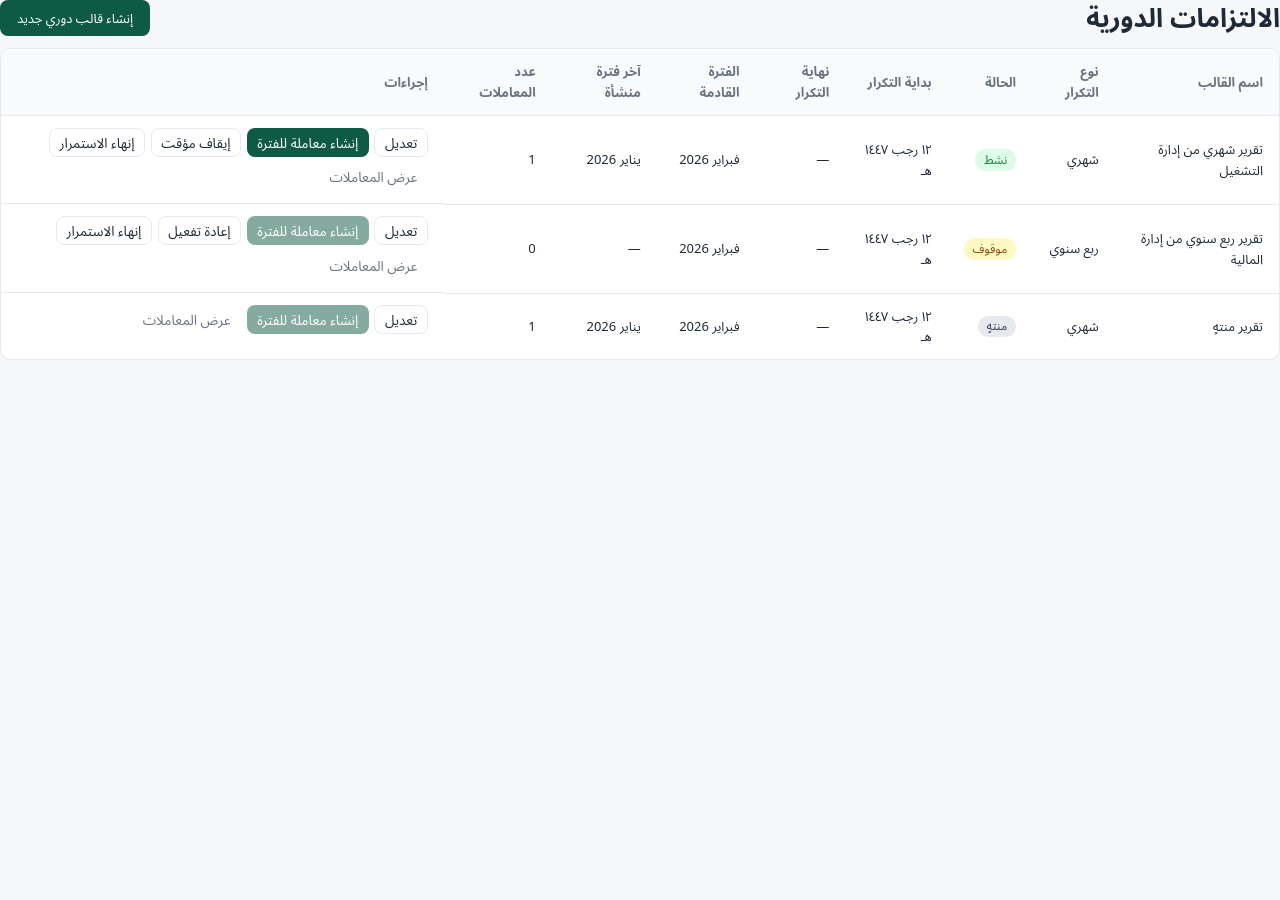
Test case: RecurringTemplatesPage › requires a reason before submitting template termination
The image size is (1280, 900).
Expected: the text "تقرير شهري من إدارة التشغيل" is shown, [1115,115,1279,204]
Click the button "إنهاء الاستمرار" in the row of "تقرير شهري من إدارة التشغيل" at (97, 142), box [49,128,145,157]
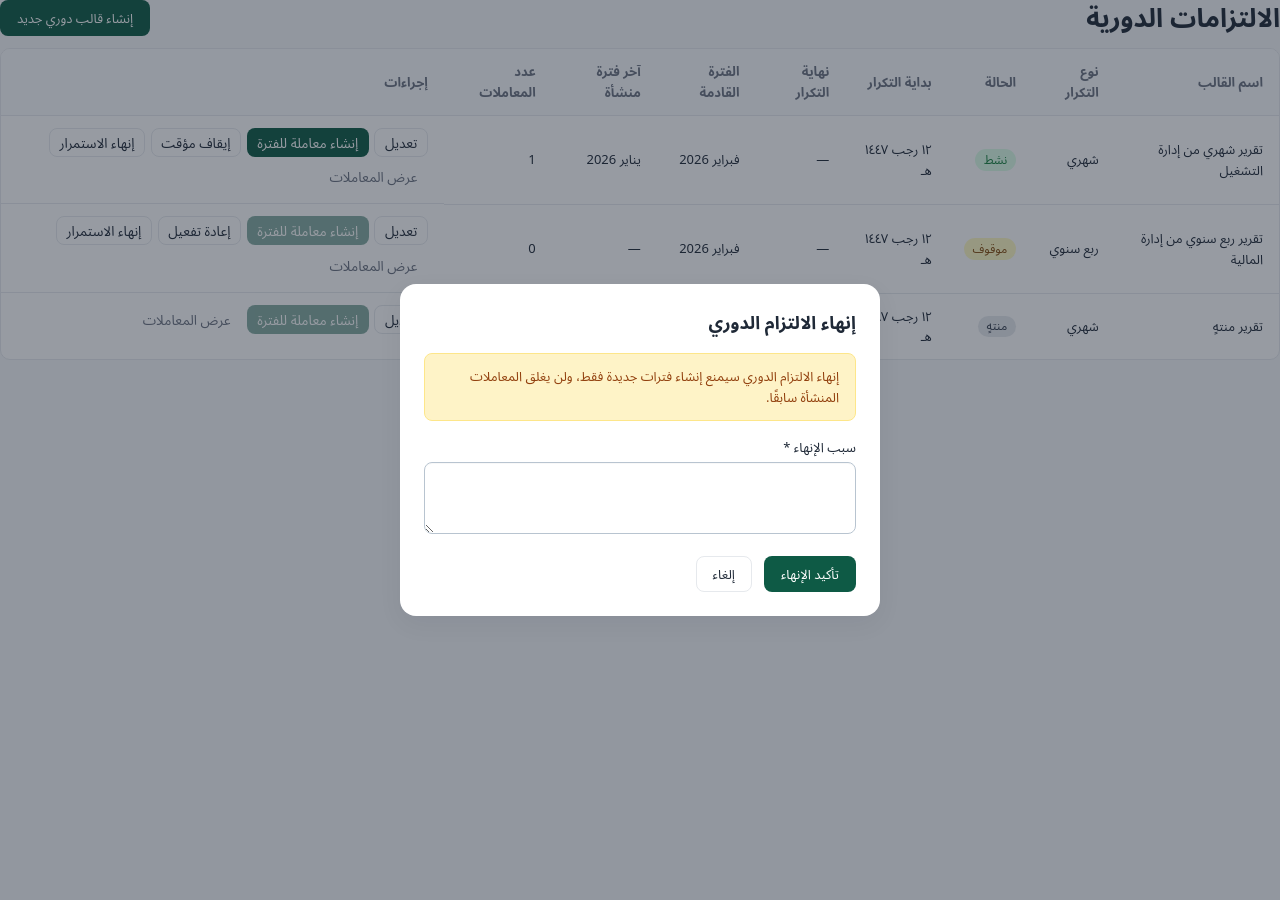
Expected: the button "تأكيد الإنهاء" is shown
Click the button "تأكيد الإنهاء" at (810, 574), box [764,556,856,592]
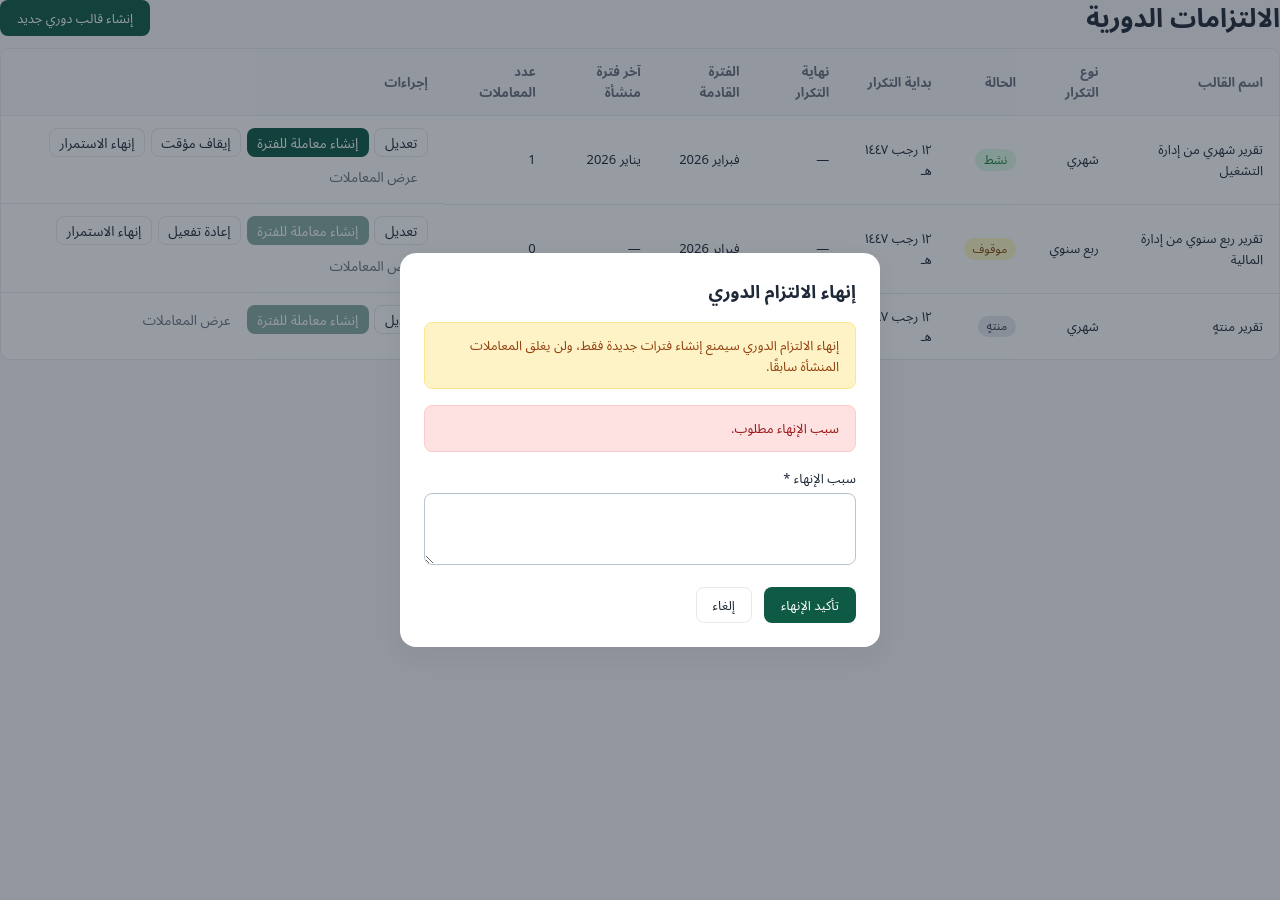
Expected: the text "سبب الإنهاء مطلوب." is shown, [424,405,856,452]
